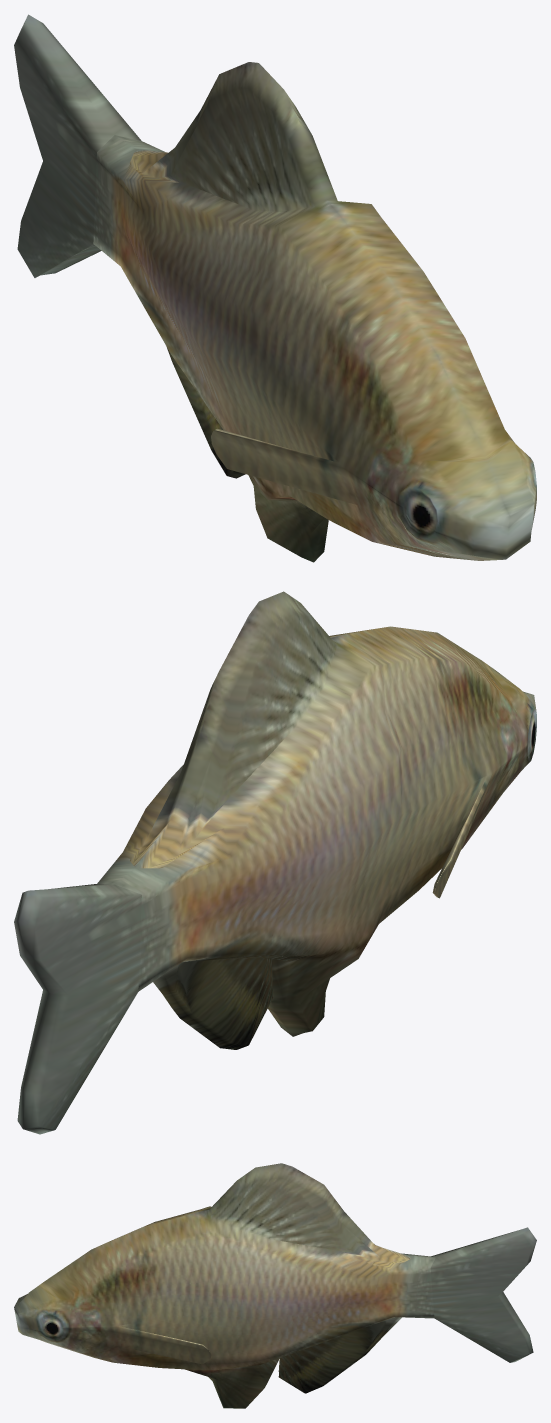
File: aburabote_model.fbx
3 renders of one model, top to bottom at view 1: azimuth 30°, elevation 25°; view 2: azimuth 150°, elevation 25°; view 3: azimuth 270°, elevation 25°, orthographic. The views are drawn at different scales.
Parts seen in each view (by area): view 1: pCube1; view 2: pCube1; view 3: pCube1.
Boxes of the visible parts, x1,y1,x2,y2 form: pCube1: [14, 14, 536, 562]; pCube1: [14, 591, 536, 1134]; pCube1: [14, 1163, 536, 1408].
Size of the model in its own units: 1.04 by 1.91 by 3.68.
